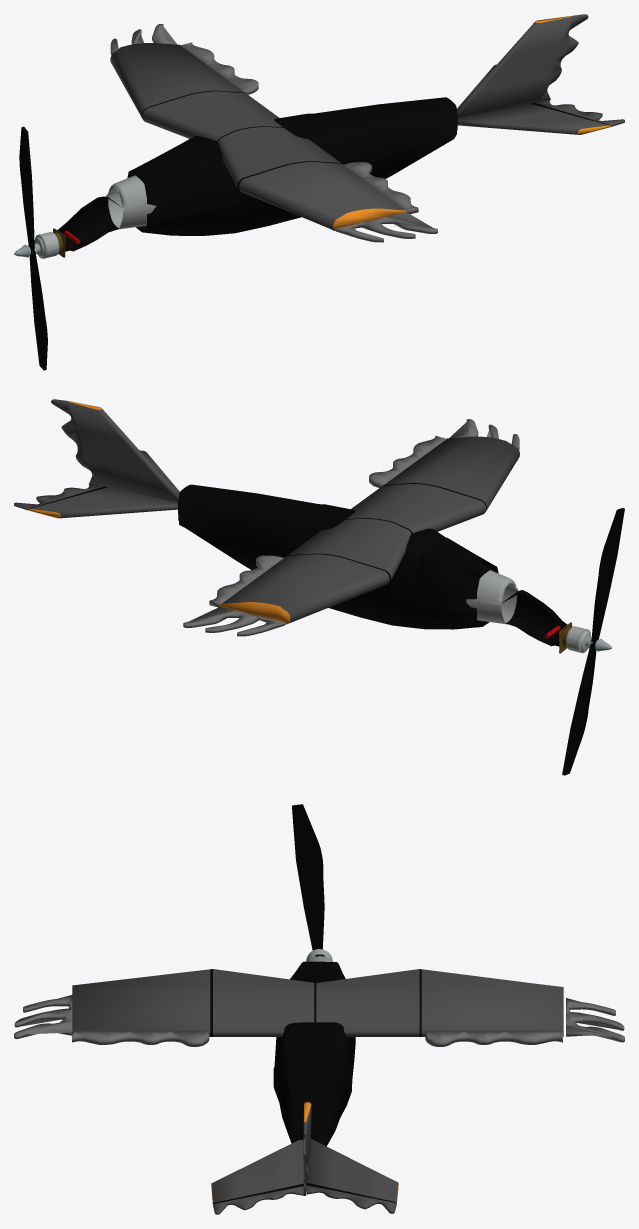
The model's file is UAV2.fbx.
The picture shows the model from 3 angles, top to bottom: view 1: azimuth 30°, elevation 25°; view 2: azimuth 150°, elevation 25°; view 3: azimuth 270°, elevation 25°; orthographic projection. The views are drawn at different scales.
Parts seen in each view (by area): view 1: Cube.005, Cylinder, Sphere.003; view 2: Cube.005, Cylinder, Sphere.003; view 3: Cube.005, Sphere.003.
Boxes of the visible parts, box(x1,y1,x2,y2) form: Cube.005: box(110, 14, 624, 242); Cylinder: box(14, 175, 156, 258); Sphere.003: box(19, 126, 47, 370); Cube.005: box(14, 399, 519, 636); Cylinder: box(466, 570, 611, 653); Sphere.003: box(562, 508, 624, 775); Cube.005: box(14, 961, 624, 1214); Sphere.003: box(292, 804, 324, 950).
Size of the model in its own units: 322 by 277 by 142.
